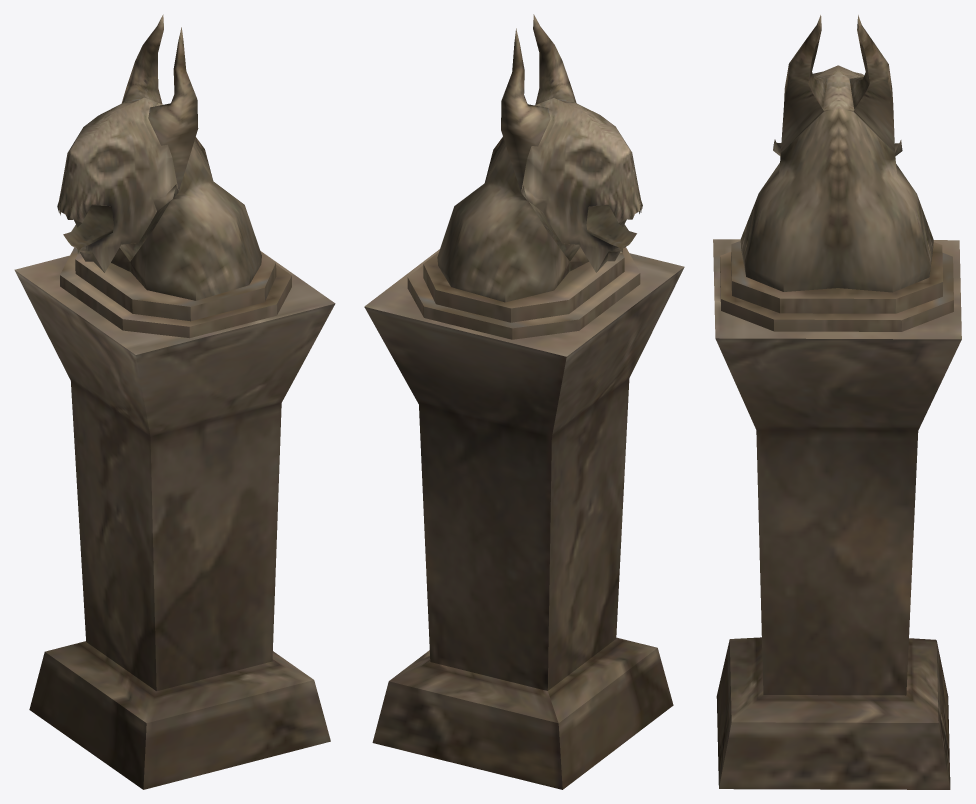
Rendered from rysd_dxzz_01.FBX.
3 views of the same model, side by side, from view 1: azimuth 30°, elevation 25°; view 2: azimuth 150°, elevation 25°; view 3: azimuth 270°, elevation 25° (orthographic). The views are drawn at different scales.
Parts seen in each view (by area): view 1: rysd_dxzz_01; view 2: rysd_dxzz_01; view 3: rysd_dxzz_01.
Boxes of the visible parts, x1,y1,x2,y2 form: rysd_dxzz_01: (14,14,335,789); rysd_dxzz_01: (364,14,684,789); rysd_dxzz_01: (713,15,961,789).
Bounding box in the file's own units: 149 × 465 × 144.
